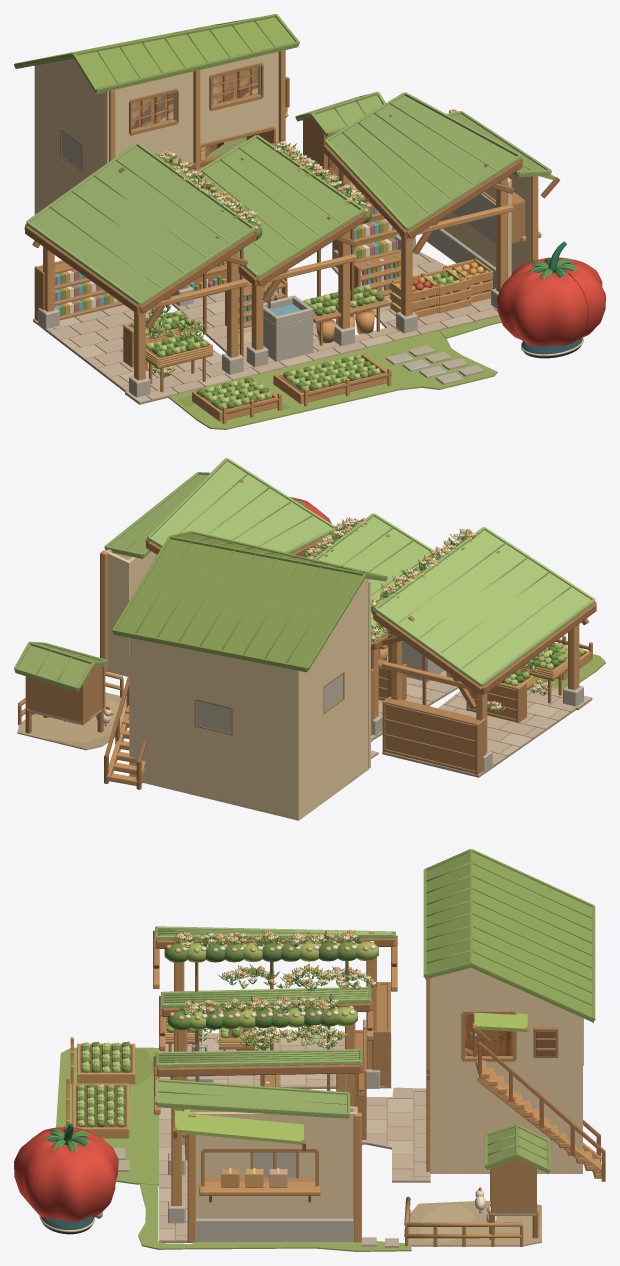
3 views of the same model, one above another, from view 1: azimuth 30°, elevation 25°; view 2: azimuth 150°, elevation 25°; view 3: azimuth 270°, elevation 25° (orthographic). The views are drawn at different scales.
Visible parts, largest first — view 1: SM_02_02_曲面屋顶, SM_02_06_景观设施, SM_02_03_木构回廊, SM_02_06_院内及专用铺地, SM_02_01_建筑墙体, SM_02_06_门前充气招牌, SM_02_04_门窗楼梯, SM_02_05_景观植物; view 2: SM_02_02_曲面屋顶, SM_02_01_建筑墙体, SM_02_06_景观设施, SM_02_03_木构回廊, SM_02_06_院内及专用铺地, SM_02_04_门窗楼梯, SM_02_05_景观植物; view 3: SM_02_02_曲面屋顶, SM_02_01_建筑墙体, SM_02_06_院内及专用铺地, SM_02_05_景观植物, SM_02_03_木构回廊, SM_02_04_门窗楼梯, SM_02_06_景观设施, SM_02_06_门前充气招牌.
Boxes of the visible parts, <box> form: SM_02_02_曲面屋顶: <box>14,14,556,305</box>; SM_02_06_景观设施: <box>34,187,492,424</box>; SM_02_03_木构回廊: <box>24,50,560,397</box>; SM_02_06_院内及专用铺地: <box>33,176,501,429</box>; SM_02_01_建筑墙体: <box>34,52,530,276</box>; SM_02_06_门前充气招牌: <box>496,241,605,358</box>; SM_02_04_门窗楼梯: <box>60,62,541,314</box>; SM_02_05_景观植物: <box>145,139,463,421</box>; SM_02_02_曲面屋顶: <box>14,458,595,692</box>; SM_02_01_建筑墙体: <box>25,549,368,820</box>; SM_02_06_景观设施: <box>25,635,592,774</box>; SM_02_03_木构回廊: <box>100,479,596,772</box>; SM_02_06_院内及专用铺地: <box>17,648,605,777</box>; SM_02_04_门窗楼梯: <box>18,622,581,789</box>; SM_02_05_景观植物: <box>297,517,590,713</box>; SM_02_02_曲面屋顶: <box>155,849,595,1173</box>; SM_02_01_建筑墙体: <box>192,968,582,1218</box>; SM_02_06_院内及专用铺地: <box>56,1033,541,1251</box>; SM_02_05_景观植物: <box>72,929,380,1159</box>; SM_02_03_木构回廊: <box>153,930,529,1242</box>; SM_02_04_门窗楼梯: <box>199,1011,605,1246</box>; SM_02_06_景观设施: <box>66,961,538,1239</box>; SM_02_06_门前充气招牌: <box>14,1123,118,1234</box>.
Size of the model in its own units: 9.5 by 4.62 by 10.85.
50 materials, 1 textured.
